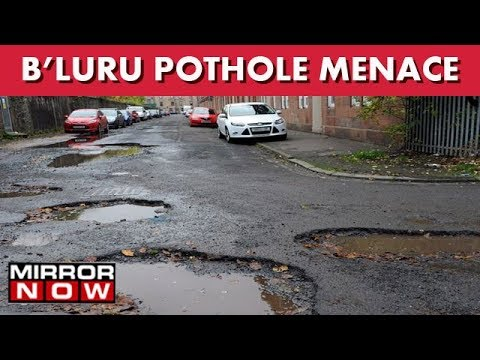pothole: (75, 237, 317, 324), (295, 203, 479, 271), (26, 189, 175, 237), (49, 137, 153, 174)
